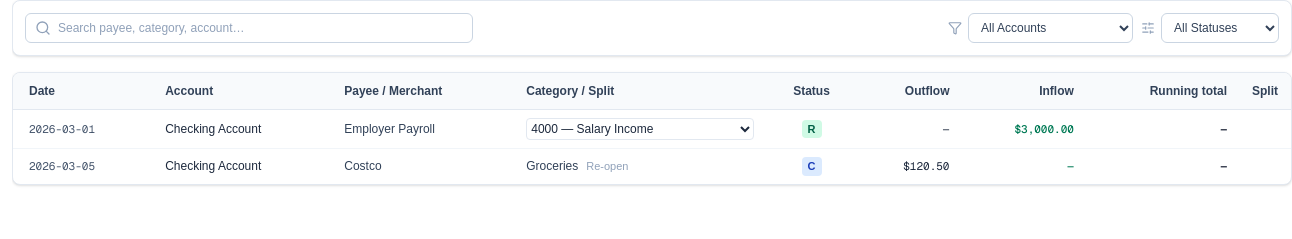
TransactionRegister › shows why a category can't be changed in place, and puts it back if the change fails
Expected: the text titled "A split — re-book it from Journal Entries" reads "Groceries", [526,159,578,173]
Step 1. Select "5100 — Groceries" in the dropdown named "Change category for Employer Payroll" → (640, 129), box [526,118,754,140]
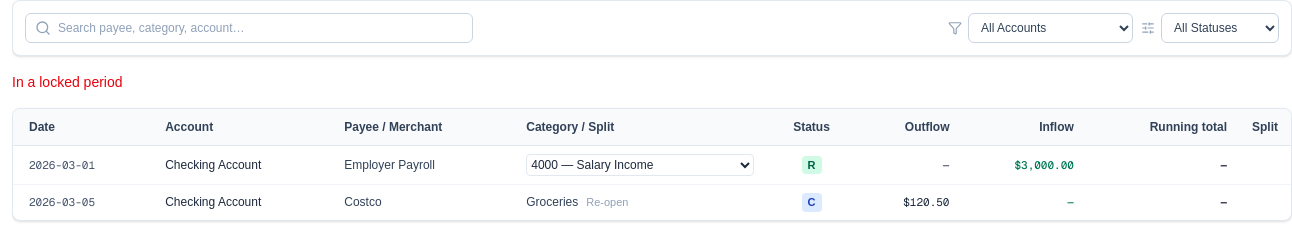
Now the text "In a locked period" is shown, box [12,74,122,90]
